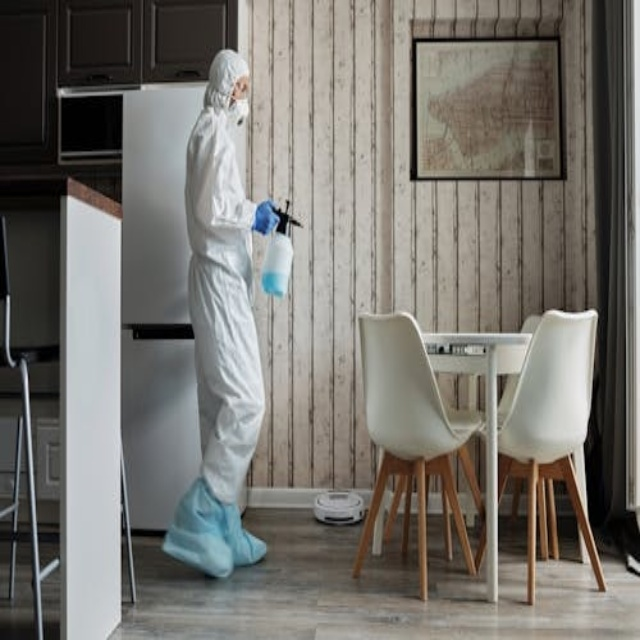Gafas: (233, 78, 250, 96)
Guantes: (252, 200, 280, 235)
Mascara: (229, 96, 249, 125)
